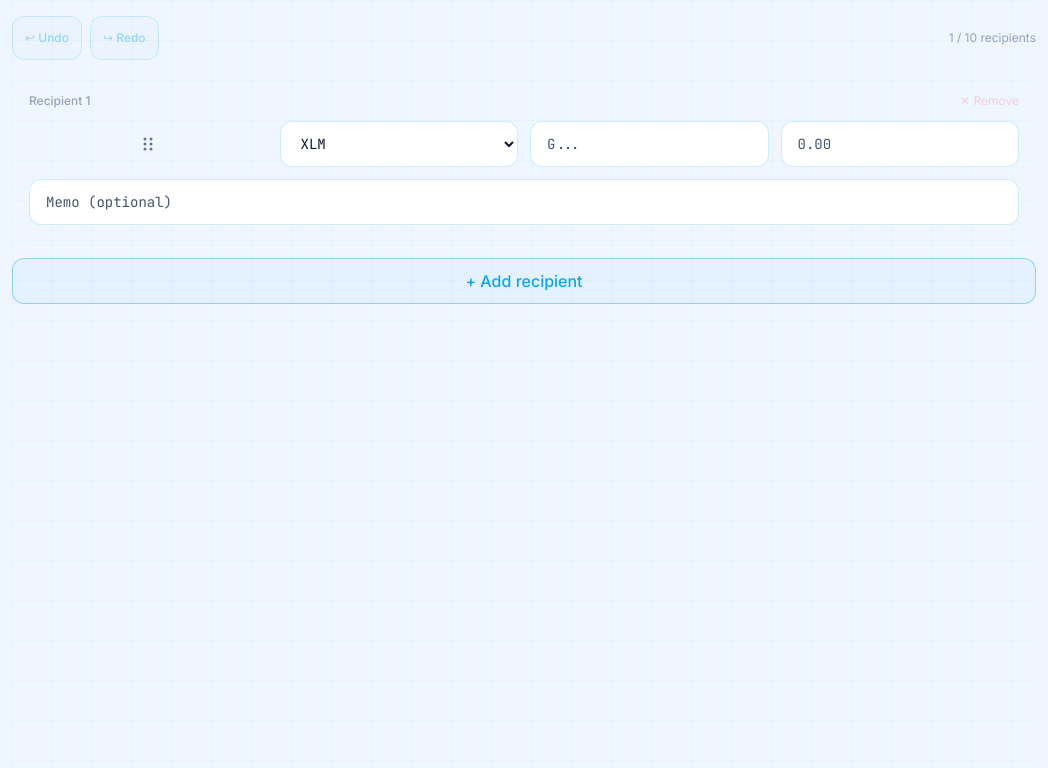
Test: PaymentBuilder › supports undo and redo functionality via buttons
Check: the button "↩ Undo" is disabled, box [12, 16, 82, 60]
Check: the button "↪ Redo" is disabled, box [90, 16, 159, 60]
Click the button "+ Add recipient". click: (524, 281)
box: [12, 258, 1036, 304]
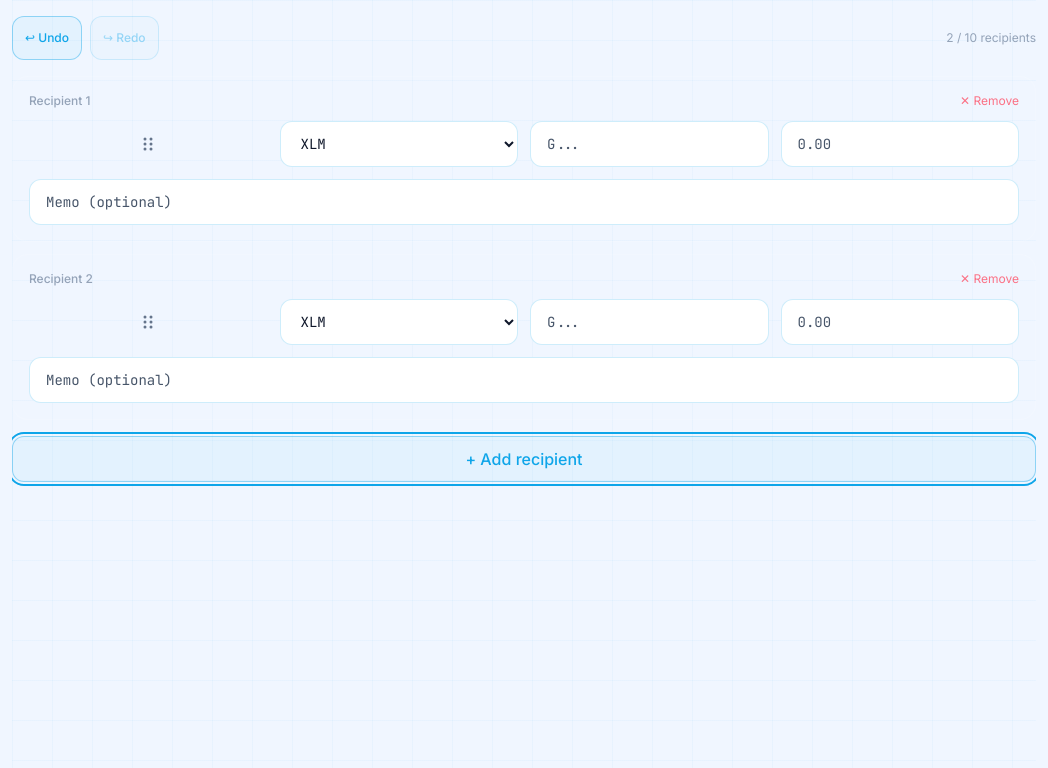
Check: the text "Recipient 2" is shown, box [29, 271, 93, 287]
Check: the button "↩ Undo" is enabled
# Click Undo
Click the button "↩ Undo". click: (47, 38)
box: [12, 16, 82, 60]
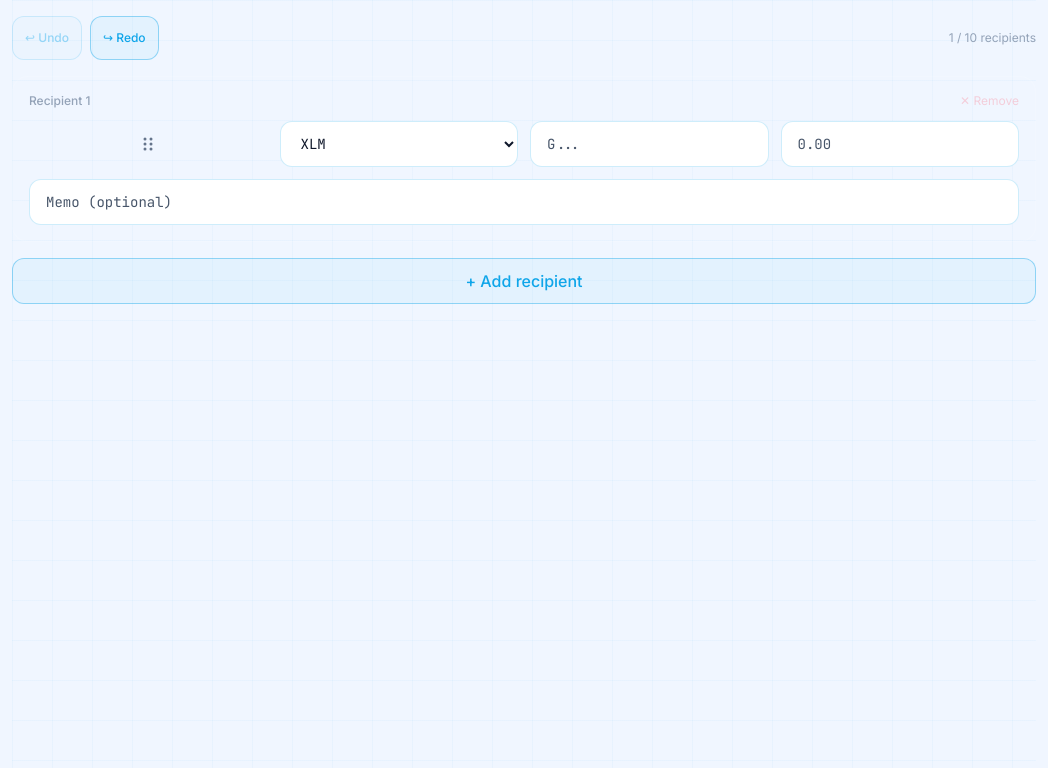
Check: the text "Recipient 2" is gone
Check: the button "↪ Redo" is enabled
# Click Redo
Click the button "↪ Redo". click: (124, 38)
box: [90, 16, 159, 60]
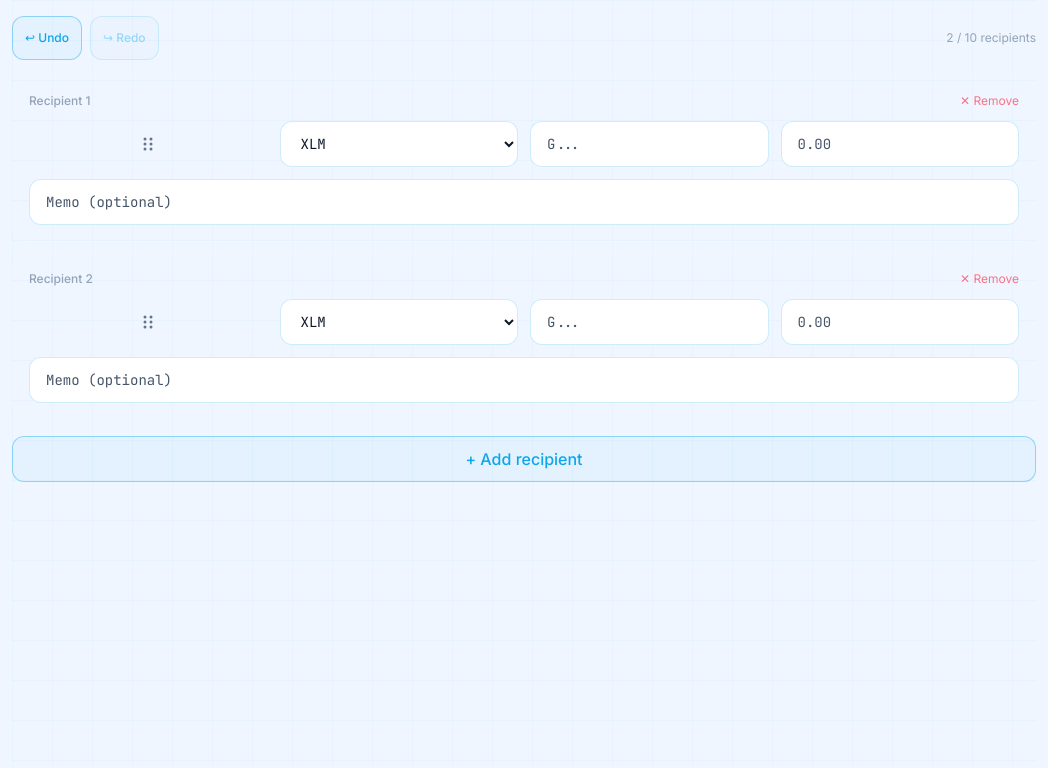
Check: the text "Recipient 2" is shown, box [29, 271, 93, 287]
